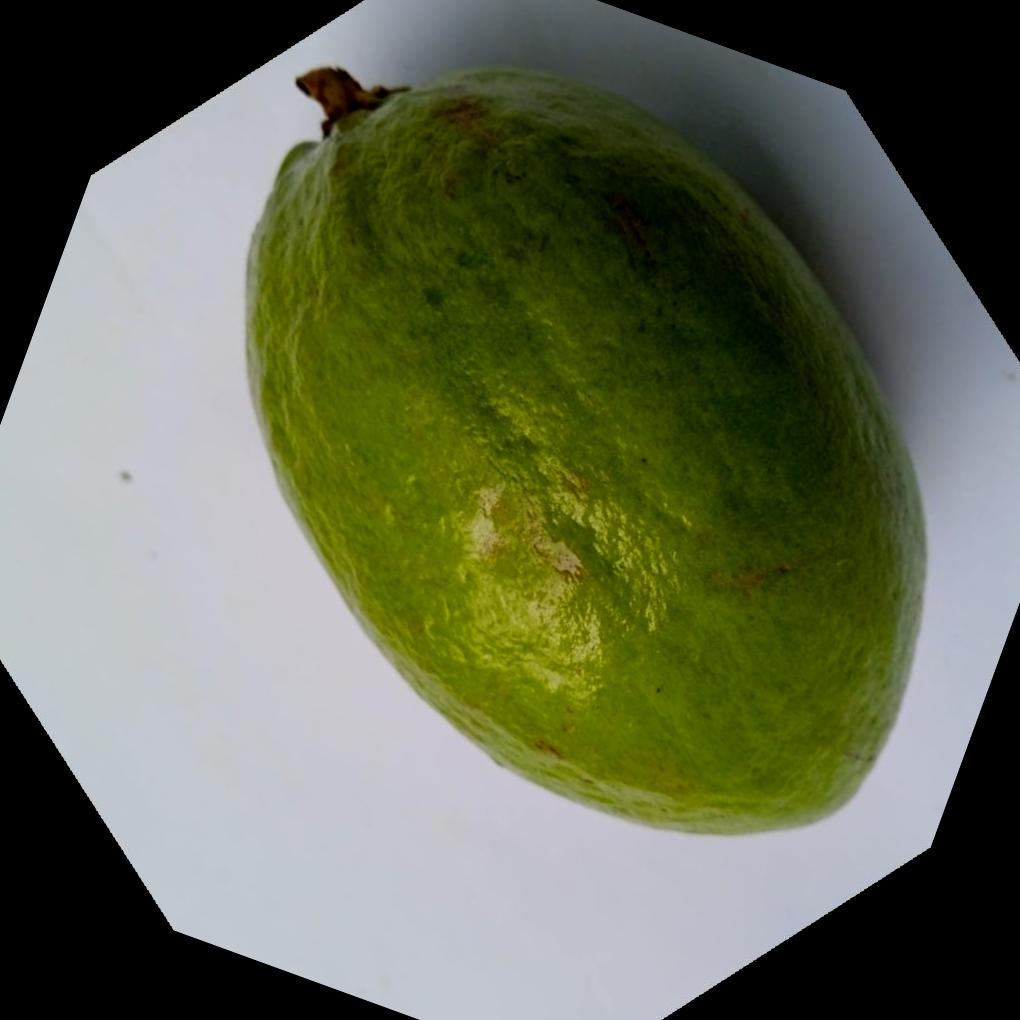FreshGuava: (243, 59, 931, 834)
